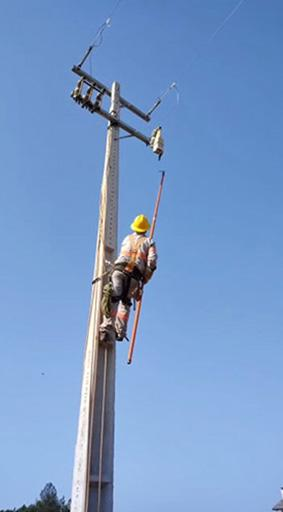Vara_Manobra: (125, 173, 166, 365)
